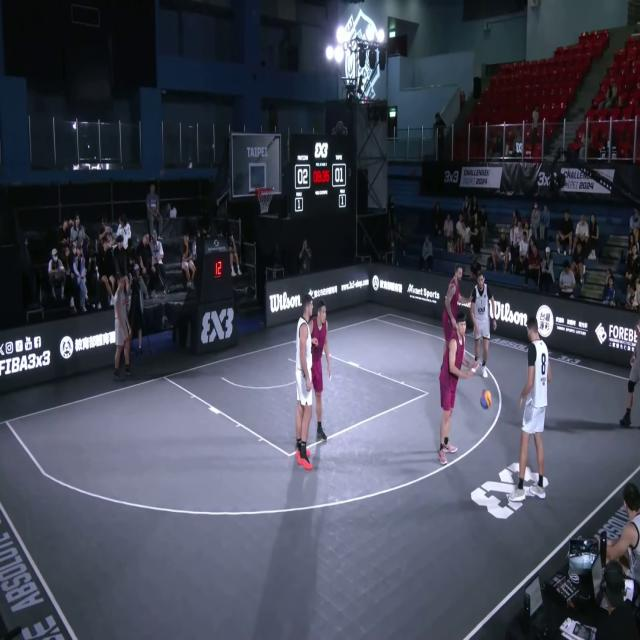ball: (479, 384, 494, 414)
hoop: (254, 186, 274, 214)
player: (507, 314, 548, 509), (436, 312, 480, 468), (435, 266, 473, 386), (295, 295, 317, 468), (309, 299, 330, 439), (472, 272, 496, 378)
